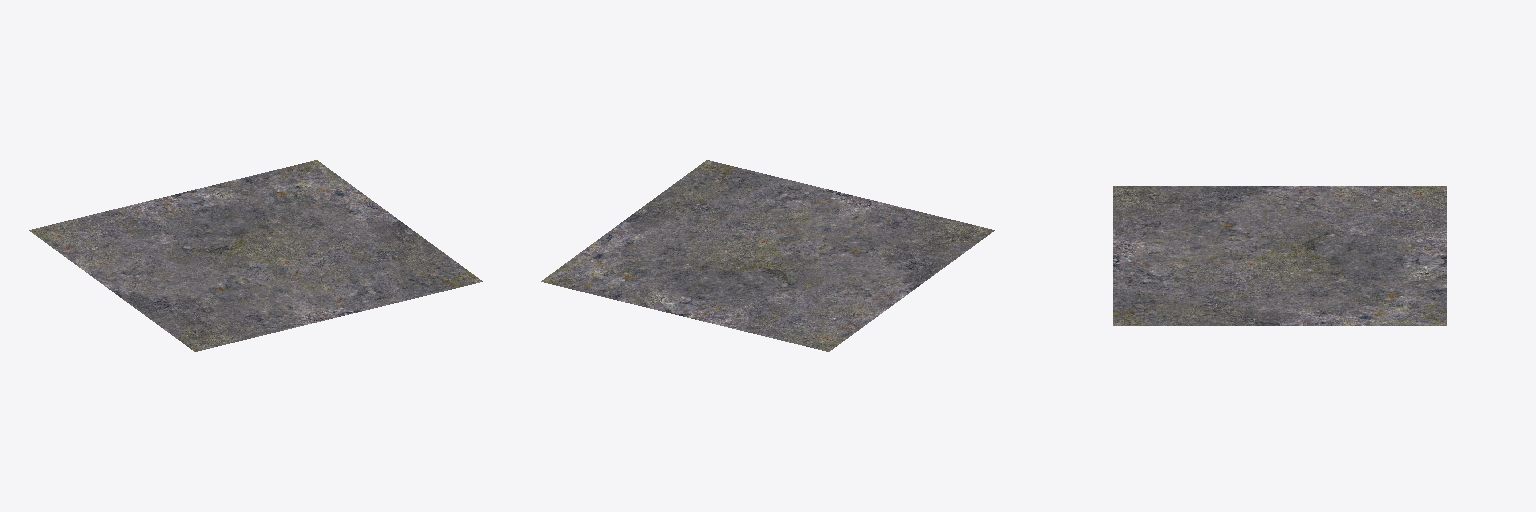
3 renders of one model, left to right at view 1: azimuth 30°, elevation 25°; view 2: azimuth 150°, elevation 25°; view 3: azimuth 270°, elevation 25°, orthographic.
Parts seen in each view (by area): view 1: Mesh_Plane; view 2: Mesh_Plane; view 3: Mesh_Plane.
Part boxes in pixels (x1,y1,x2,y2): Mesh_Plane: (29, 160, 482, 351); Mesh_Plane: (541, 160, 994, 351); Mesh_Plane: (1113, 186, 1446, 325).
Size of the model in its own units: 200 by 0 by 200.
Materials: 1 (1 with a texture image).